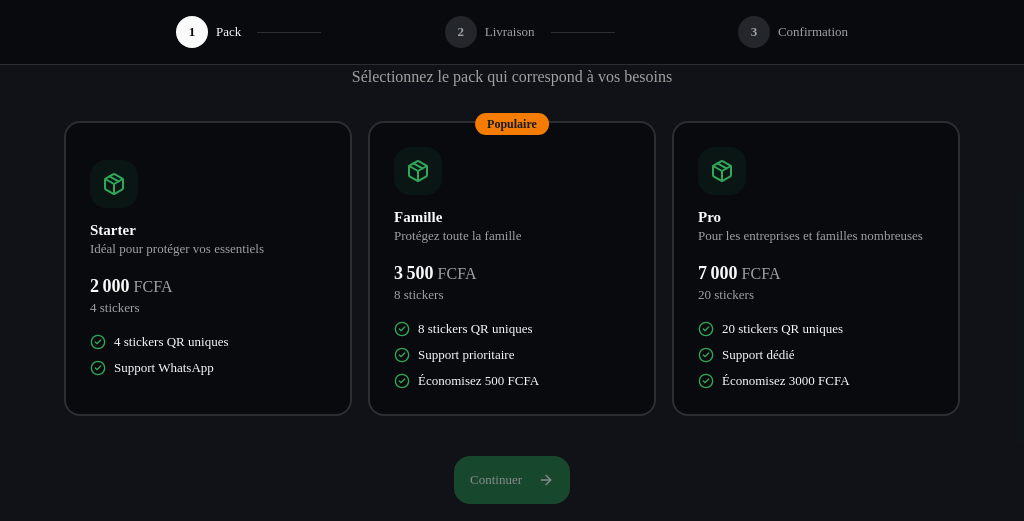
Test: CommanderPage › holds the first step shut until a pack is picked
expect the button "Continuer" is disabled: met, box [454,456,570,504]
Click the button "Famille" at (418,171), box [368,121,656,416]
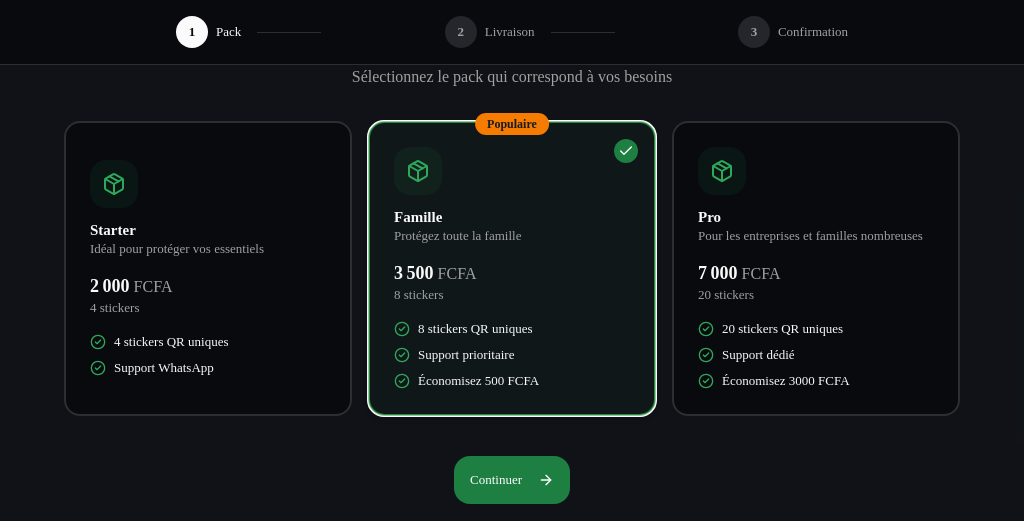
expect the button "Continuer" is enabled: met, box [454,456,570,504]
